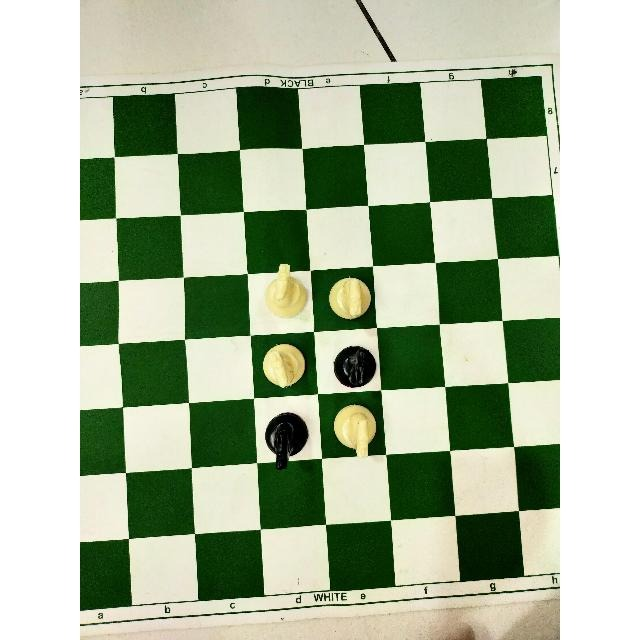black-king: (263, 260, 327, 345)
black-knight: (263, 410, 311, 473), (330, 343, 378, 391)
white-knight: (262, 260, 310, 322), (331, 402, 378, 460), (261, 341, 308, 391), (326, 273, 373, 322)
